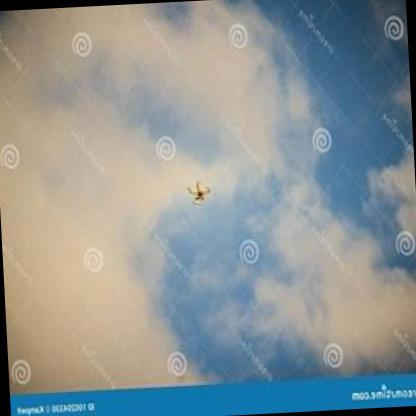drone: (180, 178, 214, 207)
